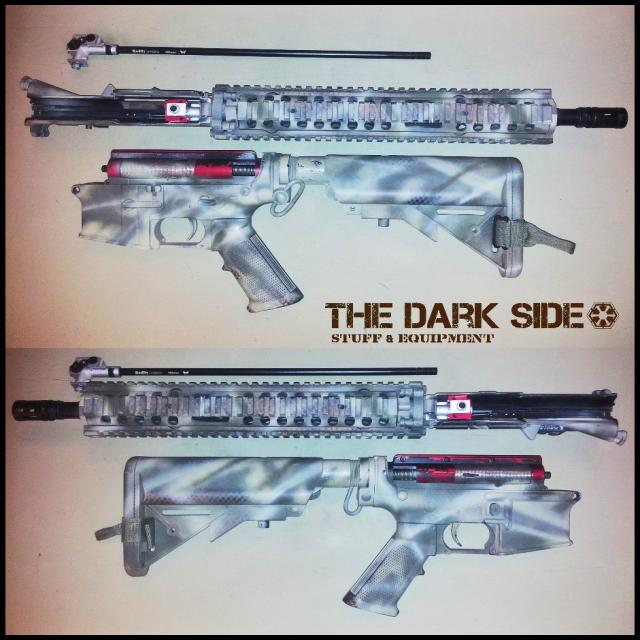firearm: (123, 446, 578, 618), (74, 154, 523, 312), (14, 373, 622, 445), (36, 86, 632, 144)
